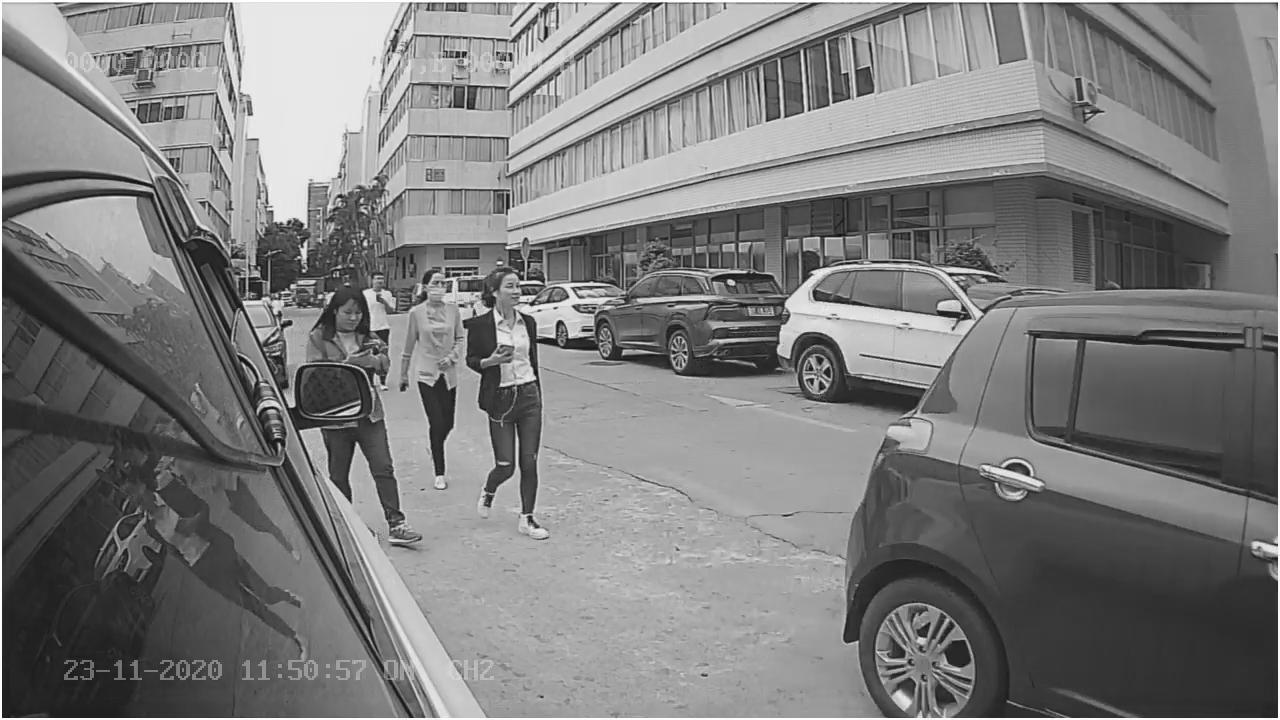person: (463, 265, 564, 542)
